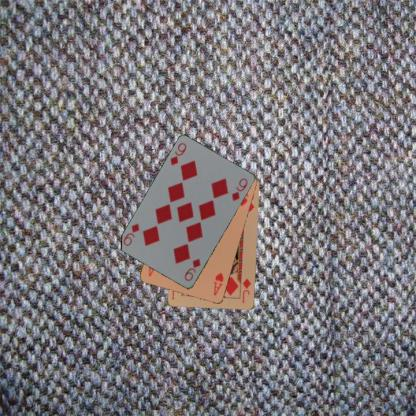9d: (167, 140, 188, 167), (182, 256, 202, 282)
Ah: (211, 270, 225, 297)
Jd: (240, 276, 252, 304)
